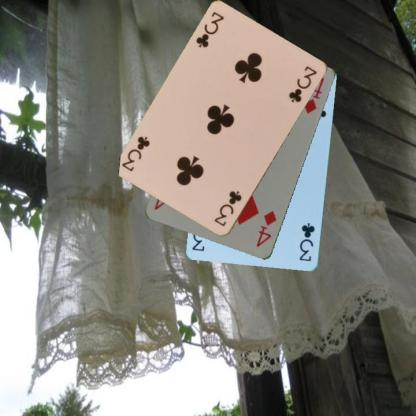3c: (193, 9, 226, 50), (212, 189, 244, 229), (297, 221, 316, 263)
4d: (254, 208, 278, 248)
